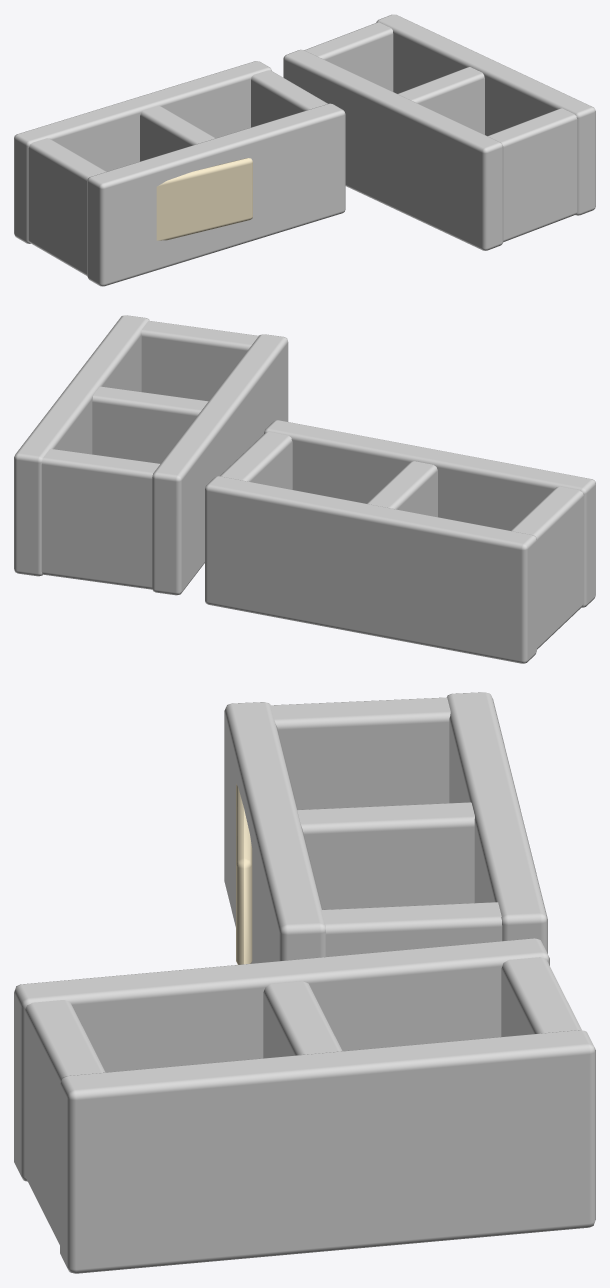
The model's file is prop_roof_blocks.glb.
3 views of the same model, one above another, from view 1: azimuth 30°, elevation 25°; view 2: azimuth 150°, elevation 25°; view 3: azimuth 270°, elevation 25° (orthographic). The views are drawn at different scales.
Visible parts, largest first — view 1: prop_roof_blocks; view 2: prop_roof_blocks; view 3: prop_roof_blocks.
Boxes of the visible parts, <box> form: prop_roof_blocks: <box>14,14,595,286</box>; prop_roof_blocks: <box>14,315,595,663</box>; prop_roof_blocks: <box>14,692,595,1273</box>.
Size of the model in its own units: 0.7069 by 0.15 by 0.4303.
